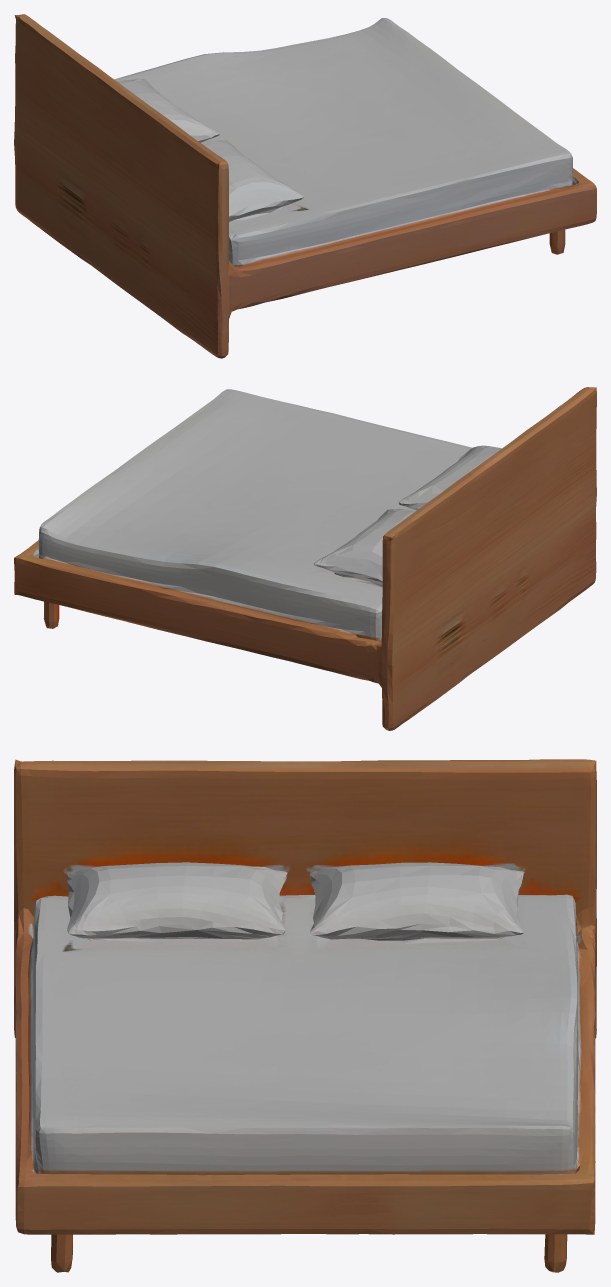
The model's file is bed1.glb.
3 renders of one model, top to bottom at view 1: azimuth 30°, elevation 25°; view 2: azimuth 150°, elevation 25°; view 3: azimuth 270°, elevation 25°, orthographic. The views are drawn at different scales.
Parts seen in each view (by area): view 1: tripo_node_4da4b4e2-5cce-4f83-89bf-b0f4d257fd13; view 2: tripo_node_4da4b4e2-5cce-4f83-89bf-b0f4d257fd13; view 3: tripo_node_4da4b4e2-5cce-4f83-89bf-b0f4d257fd13.
Part boxes in pixels (x1,y1,x2,y2): tripo_node_4da4b4e2-5cce-4f83-89bf-b0f4d257fd13: (14, 14, 596, 358); tripo_node_4da4b4e2-5cce-4f83-89bf-b0f4d257fd13: (14, 387, 596, 730); tripo_node_4da4b4e2-5cce-4f83-89bf-b0f4d257fd13: (14, 759, 596, 1272).
Bounding box in the file's own units: 0.9998 × 0.4948 × 0.937.
Materials: 1 (1 with a texture image).
